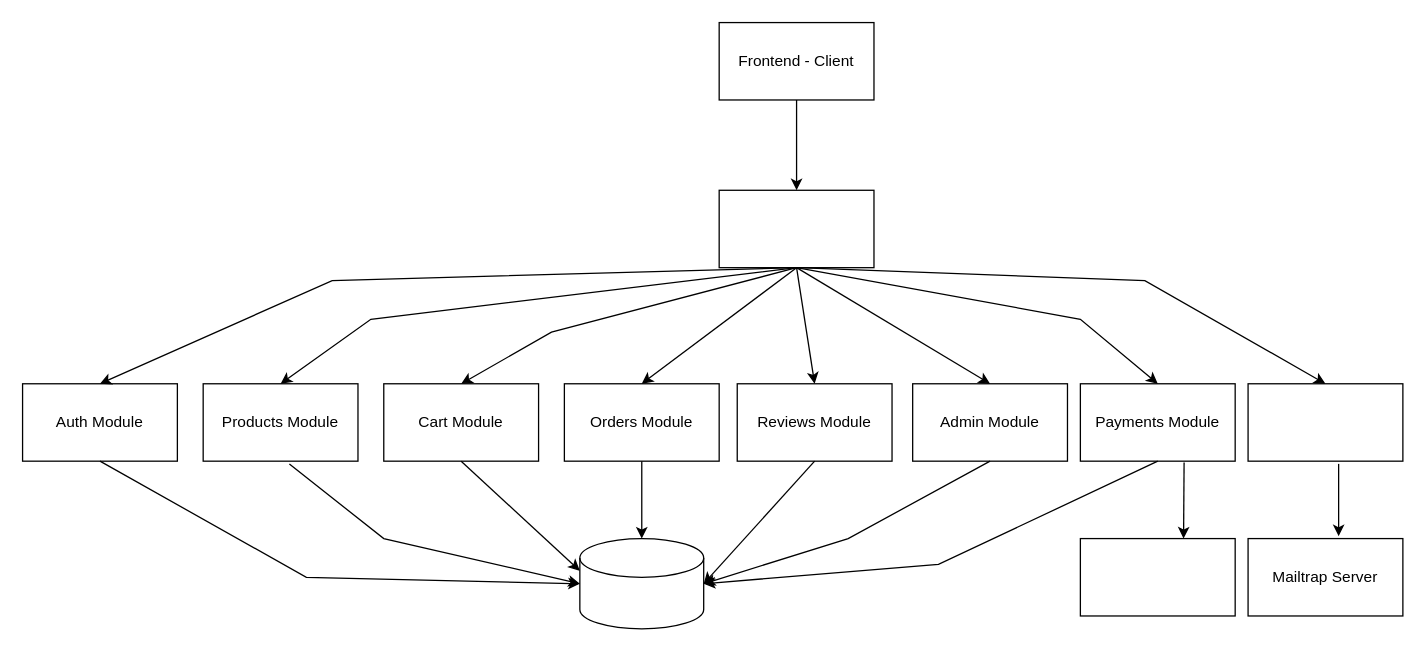
This 1425x651 diagram has some shape labels left out. Each missing label, with the centre of its shape:
"API Gateway" belongs at point 796,228.
"Mail Module" belongs at point 1325,421.
"PostgreSQL" belongs at point 641,583.
"SePay API" belongs at point 1157,576.
